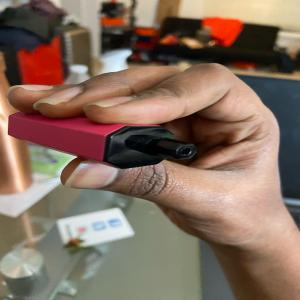Blume-E-Ciggirate: (5, 104, 204, 171)
